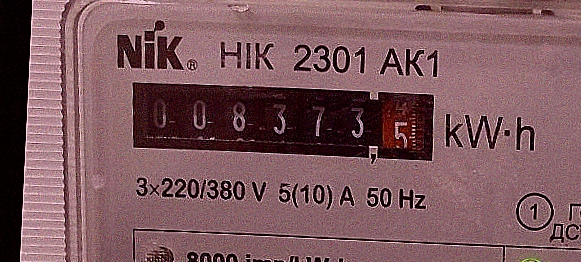0: (148, 94, 170, 131), (188, 95, 209, 132)
3: (345, 103, 368, 141), (267, 99, 289, 137)
4: (391, 97, 410, 118)
5: (390, 118, 411, 149)
7: (307, 100, 326, 140)
8: (227, 97, 250, 134)
screen: (122, 72, 443, 174)
